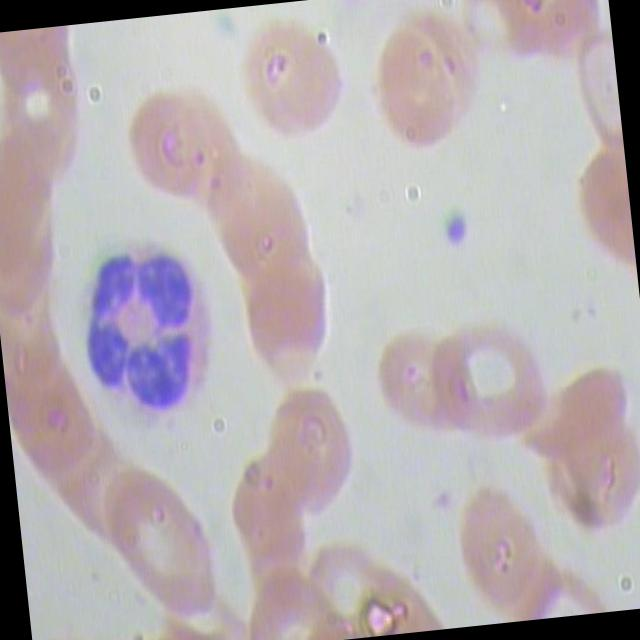Platelets: (428, 201, 487, 252)
RBC: (84, 460, 230, 636), (246, 372, 378, 534), (218, 239, 354, 393), (188, 146, 324, 300), (113, 80, 248, 234), (358, 6, 493, 160), (27, 413, 153, 578), (224, 9, 358, 162), (424, 314, 558, 447), (0, 331, 103, 503), (438, 476, 556, 618), (510, 348, 640, 474), (528, 410, 640, 543), (0, 243, 86, 416), (364, 322, 474, 446), (0, 53, 89, 199), (225, 454, 319, 587), (297, 537, 397, 640), (0, 180, 72, 323), (0, 119, 66, 262), (0, 26, 77, 111), (233, 574, 332, 640)
WBC: (65, 232, 232, 428)
